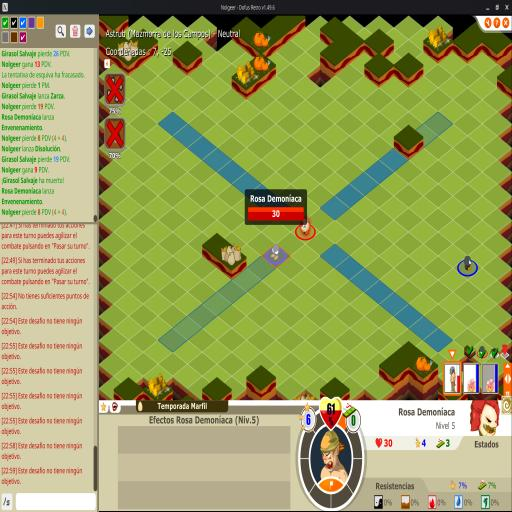Enemigos: (457, 254, 478, 277), (266, 242, 286, 266)
Personaje: (296, 216, 316, 240)
